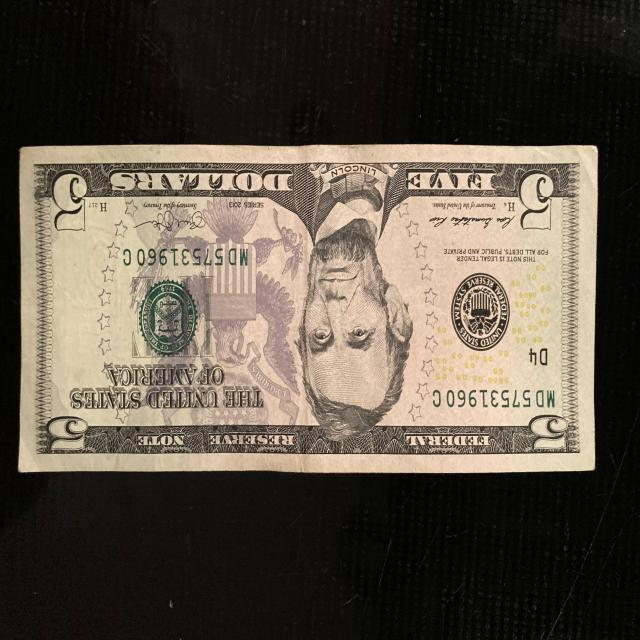five: (17, 143, 600, 474)
